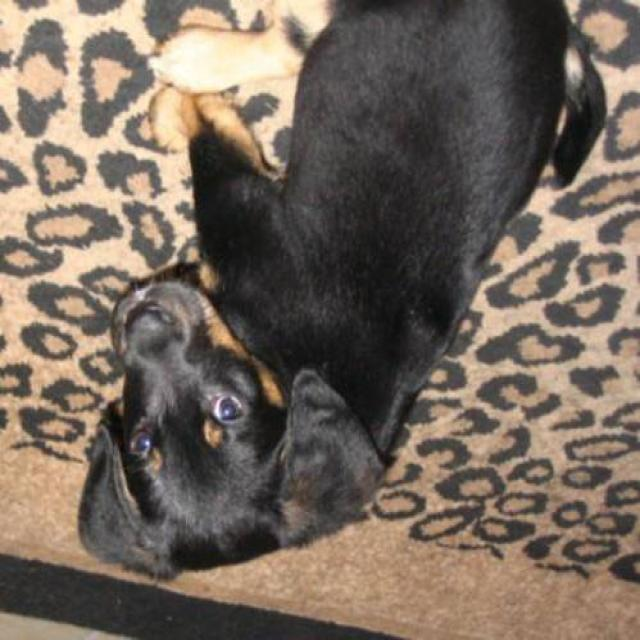dog: (65, 0, 638, 600)
